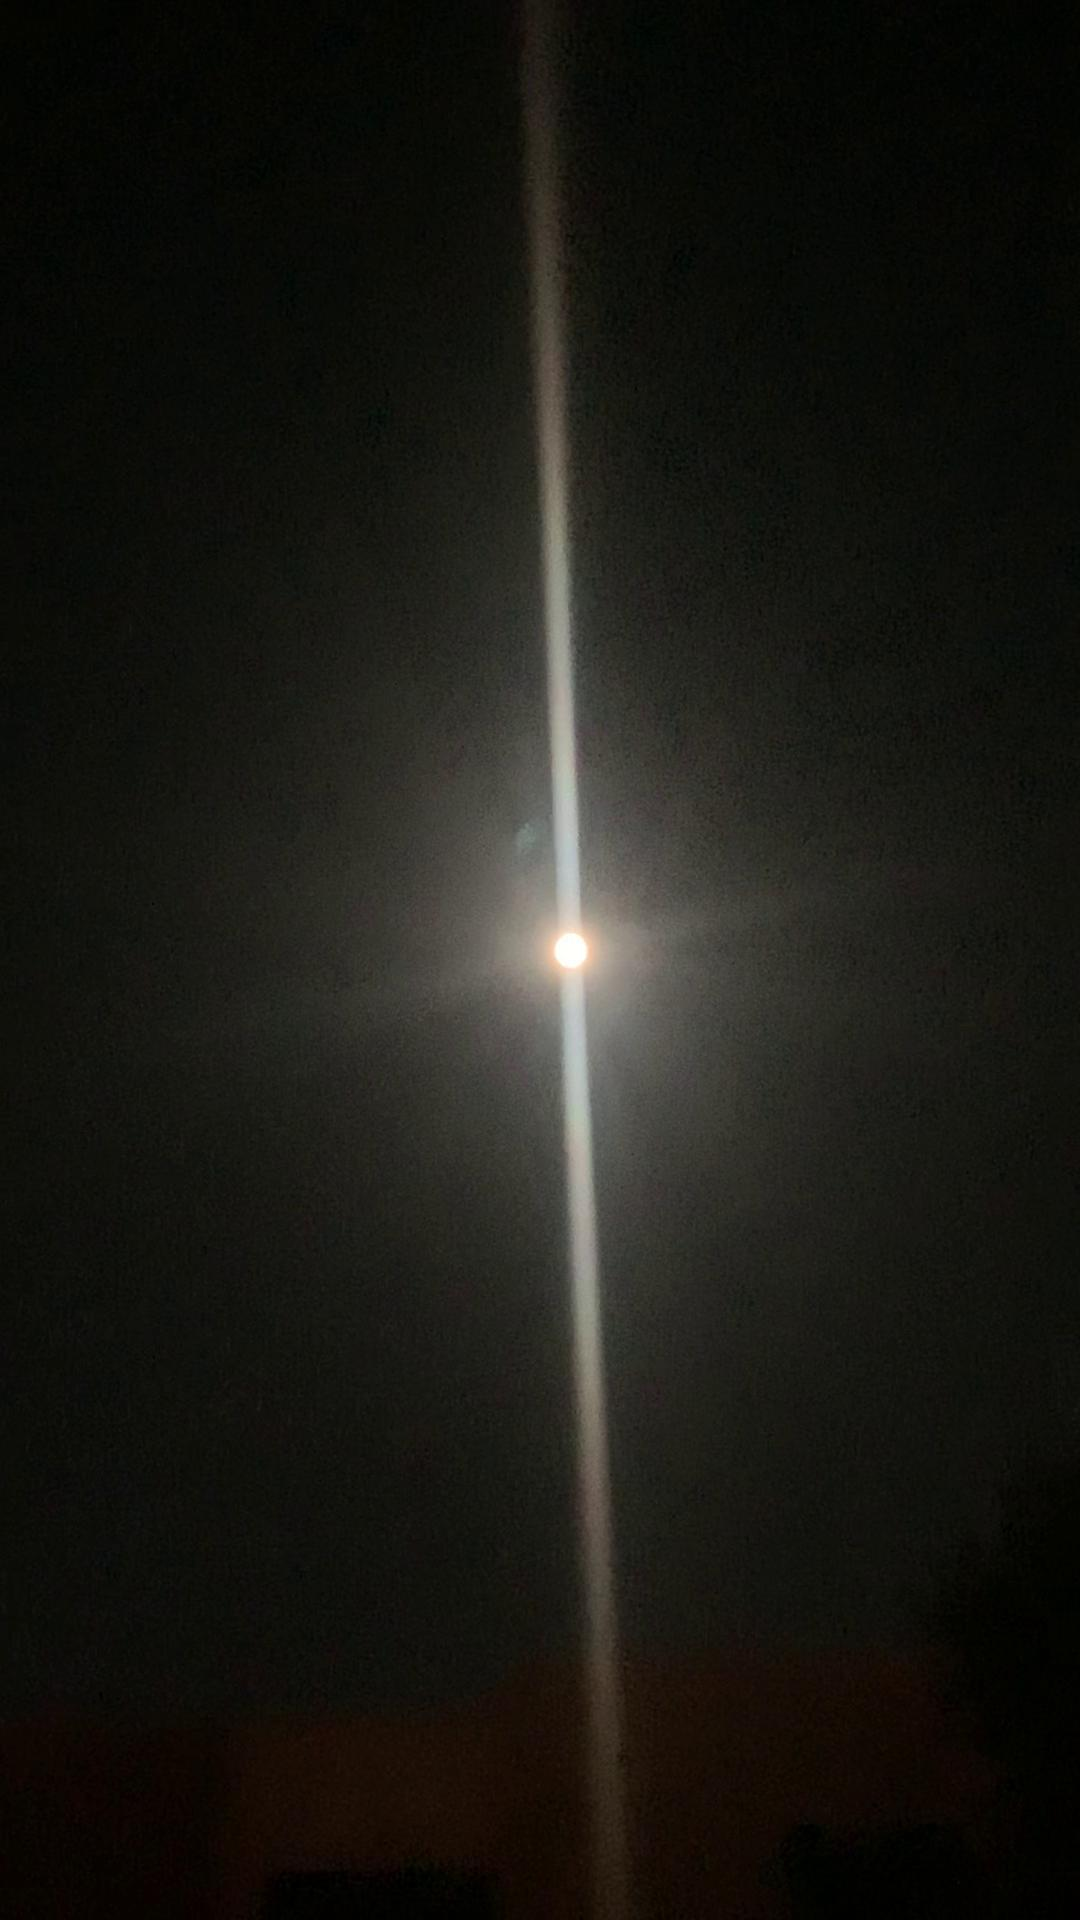moon: (524, 913, 628, 994)
